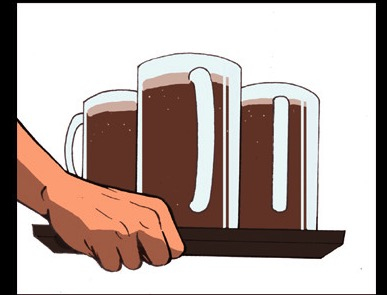beer: (132, 51, 245, 228), (232, 79, 322, 230), (61, 87, 141, 192)
cup: (135, 47, 245, 230), (233, 75, 324, 229), (57, 84, 141, 194)
